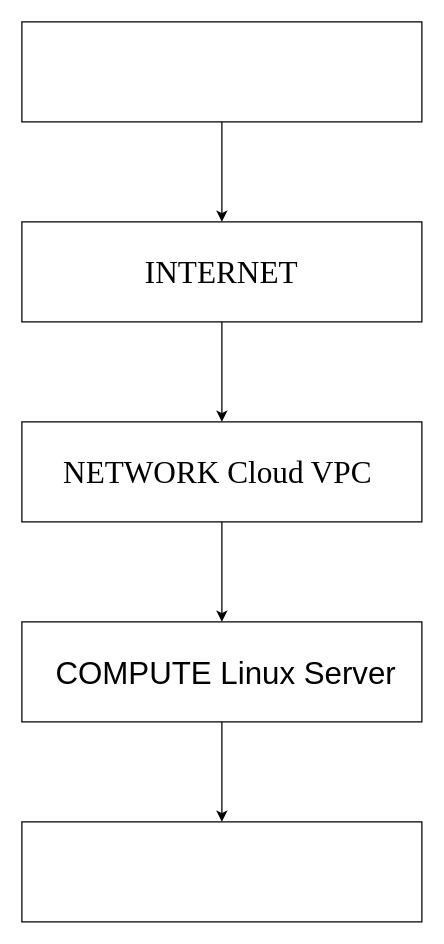
Image size: 444x944. Some labels were removed from this diagram. The centre of each missing label's shape, as x and y in pixels:
STORAGE Cloud Storage: (x=221, y=871)
USER: (x=221, y=71)
